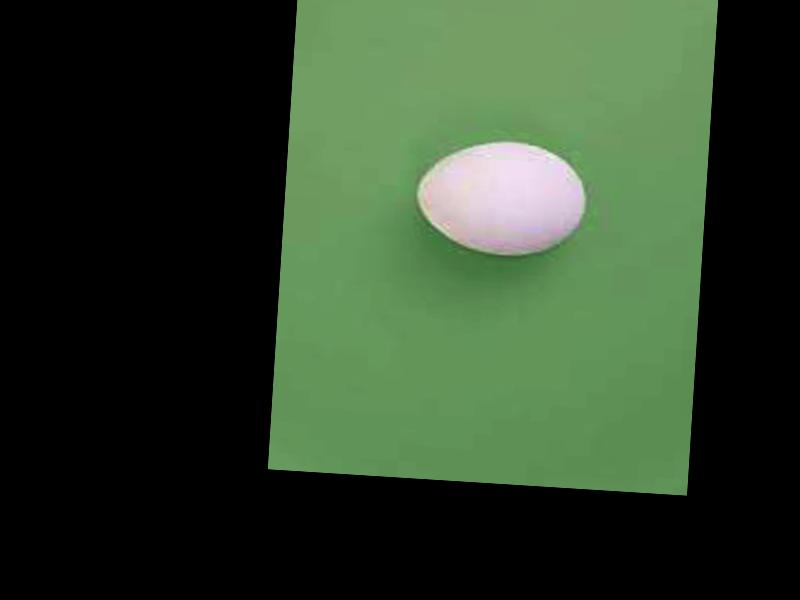Eggs: (413, 136, 591, 261)
